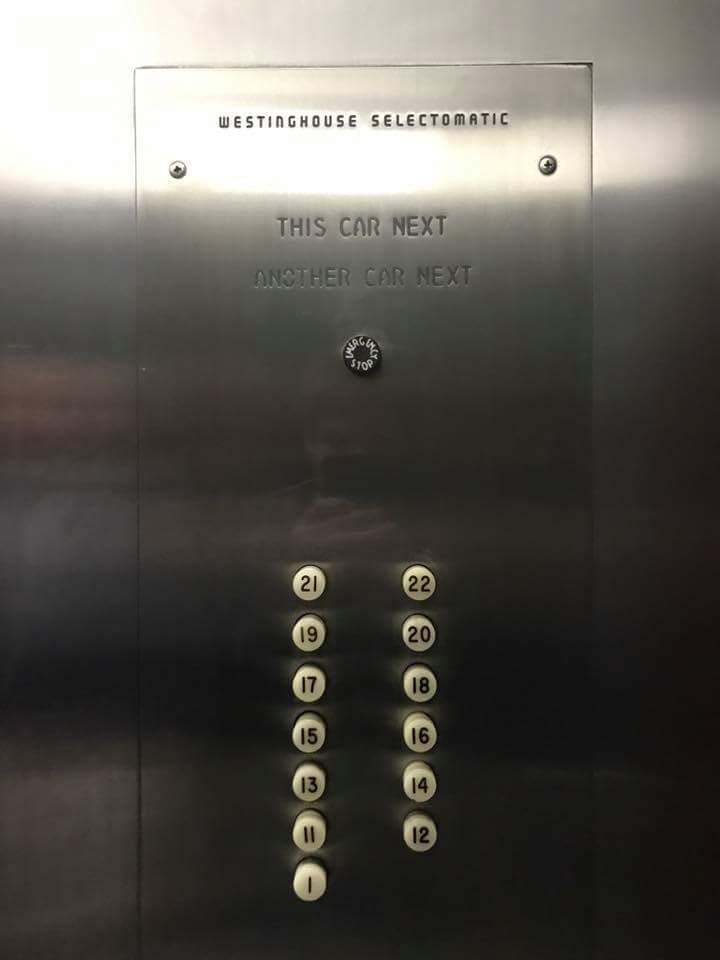1: (293, 857, 330, 901)
11: (289, 810, 329, 852)
12: (402, 809, 438, 852)
13: (289, 760, 328, 803)
14: (400, 760, 437, 803)
15: (289, 711, 328, 754)
16: (400, 712, 438, 753)
17: (290, 662, 328, 703)
18: (400, 662, 438, 703)
19: (291, 612, 328, 653)
20: (399, 613, 438, 652)
21: (290, 562, 329, 602)
22: (400, 563, 437, 601)
text: (340, 333, 385, 376)
